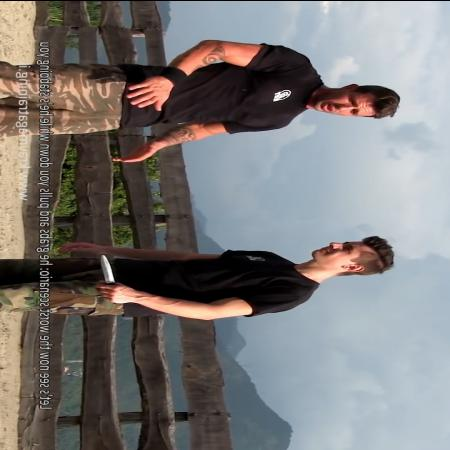long weapon: (95, 250, 128, 306)
